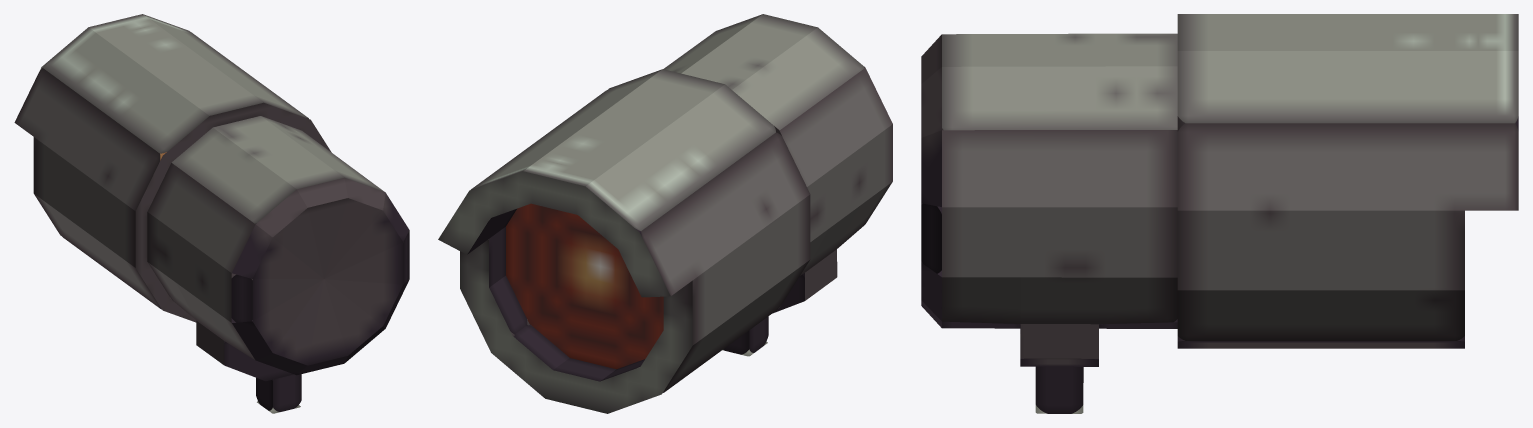
Rendered from cameraHook.fbx.
3 renders of one model, left to right at view 1: azimuth 30°, elevation 25°; view 2: azimuth 150°, elevation 25°; view 3: azimuth 270°, elevation 25°, orthographic. The views are drawn at different scales.
Visible parts, largest first — view 1: cameraHook; view 2: cameraHook; view 3: cameraHook.
Boxes of the visible parts, x1=… form: cameraHook: x1=14, y1=14, x2=409, y2=413; cameraHook: x1=438, y1=14, x2=892, y2=413; cameraHook: x1=921, y1=14, x2=1518, y2=413.
Bounding box in the file's own units: 50 × 62.46 × 90.98.
